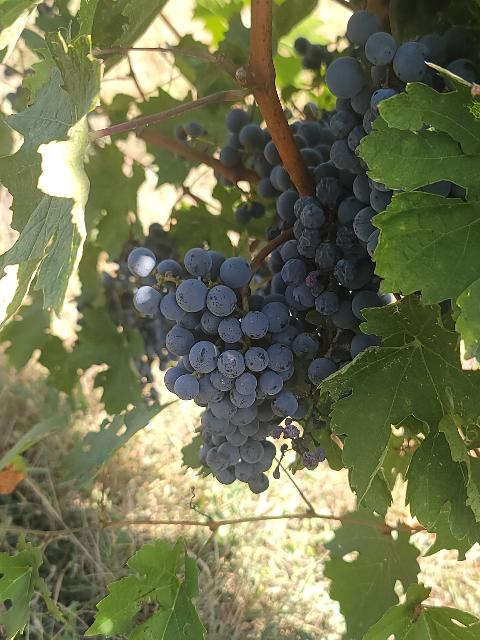grapes: (128, 248, 300, 492)
